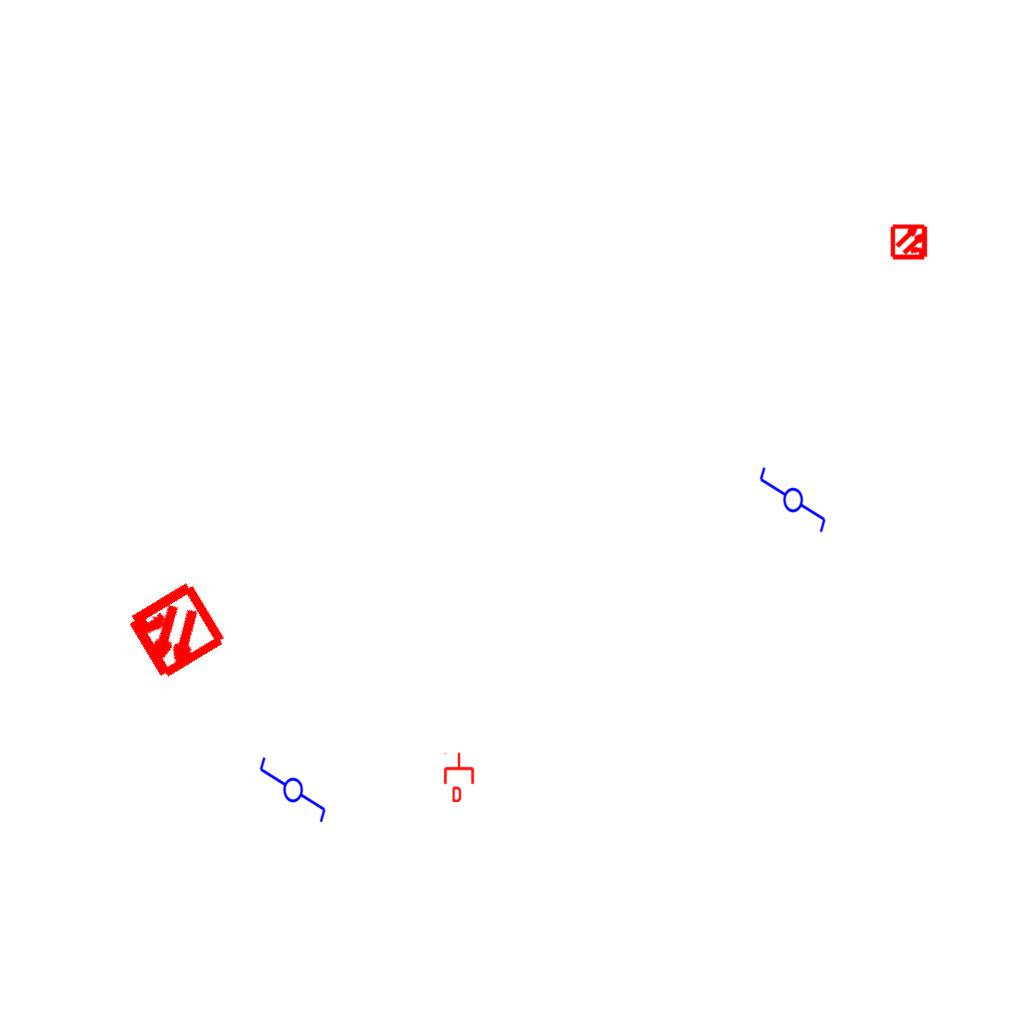Datenanschluss_einfach: (442, 752, 476, 802)
OT_Multisensormelder_(Kombination_RMO_WMD): (96, 553, 253, 710), (882, 214, 938, 270)
Wechselschalter: (256, 755, 328, 833), (756, 465, 828, 543)
